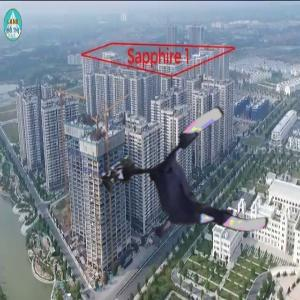drone: (126, 122, 269, 265)
